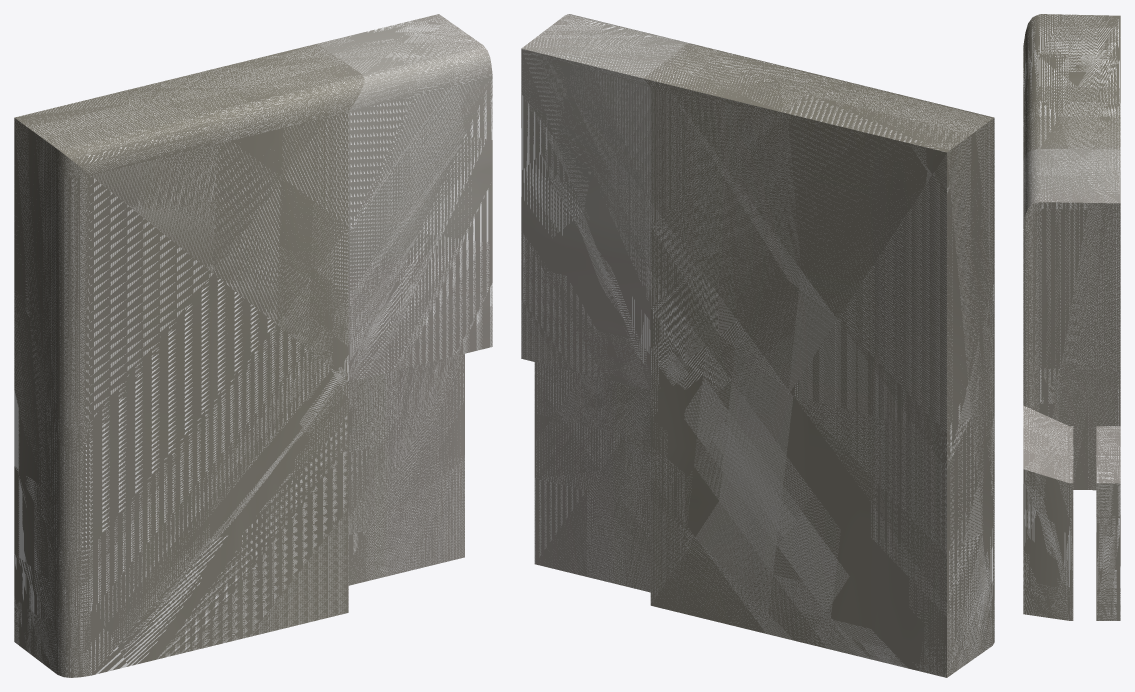
File: original-39.obj
3 renders of one model, left to right at view 1: azimuth 30°, elevation 25°; view 2: azimuth 150°, elevation 25°; view 3: azimuth 270°, elevation 25°, orthographic. The views are drawn at different scales.
Visible parts, largest first — view 1: RT_21_TL1/RT_21_TL/mesh31/mesh31-geometry#mesh31-geometry; view 2: RT_21_TL1/RT_21_TL/mesh31/mesh31-geometry#mesh31-geometry; view 3: RT_21_TL1/RT_21_TL/mesh31/mesh31-geometry#mesh31-geometry.
Part boxes in pixels (x1,y1,x2,y2): RT_21_TL1/RT_21_TL/mesh31/mesh31-geometry#mesh31-geometry: (14,14,492,677); RT_21_TL1/RT_21_TL/mesh31/mesh31-geometry#mesh31-geometry: (521,14,994,677); RT_21_TL1/RT_21_TL/mesh31/mesh31-geometry#mesh31-geometry: (1023,14,1120,620).
Size of the model in its own units: 0.124 by 0.1462 by 0.0271.
